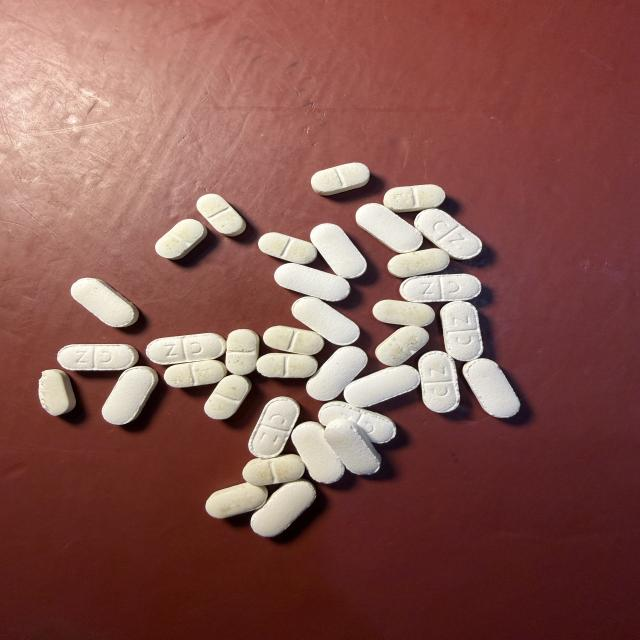pill: (251, 480, 315, 537), (463, 359, 520, 418), (415, 209, 482, 259), (71, 278, 138, 327), (356, 204, 423, 253), (307, 346, 367, 400), (319, 401, 396, 443), (292, 297, 359, 345), (102, 367, 158, 424), (292, 422, 344, 483), (344, 365, 419, 407), (325, 419, 381, 474), (249, 397, 299, 458), (311, 224, 366, 278), (275, 263, 350, 301), (441, 301, 483, 361), (418, 351, 459, 412), (146, 333, 226, 364), (400, 274, 481, 302), (206, 483, 268, 518), (58, 344, 138, 370), (376, 326, 428, 366), (196, 194, 245, 236), (205, 375, 251, 419), (156, 219, 206, 259), (243, 454, 305, 485), (311, 163, 369, 195), (258, 233, 317, 264), (263, 326, 324, 355), (388, 249, 449, 277), (164, 360, 226, 387), (384, 185, 445, 212), (39, 370, 75, 415), (373, 300, 434, 326), (226, 329, 259, 375), (257, 353, 317, 377)
